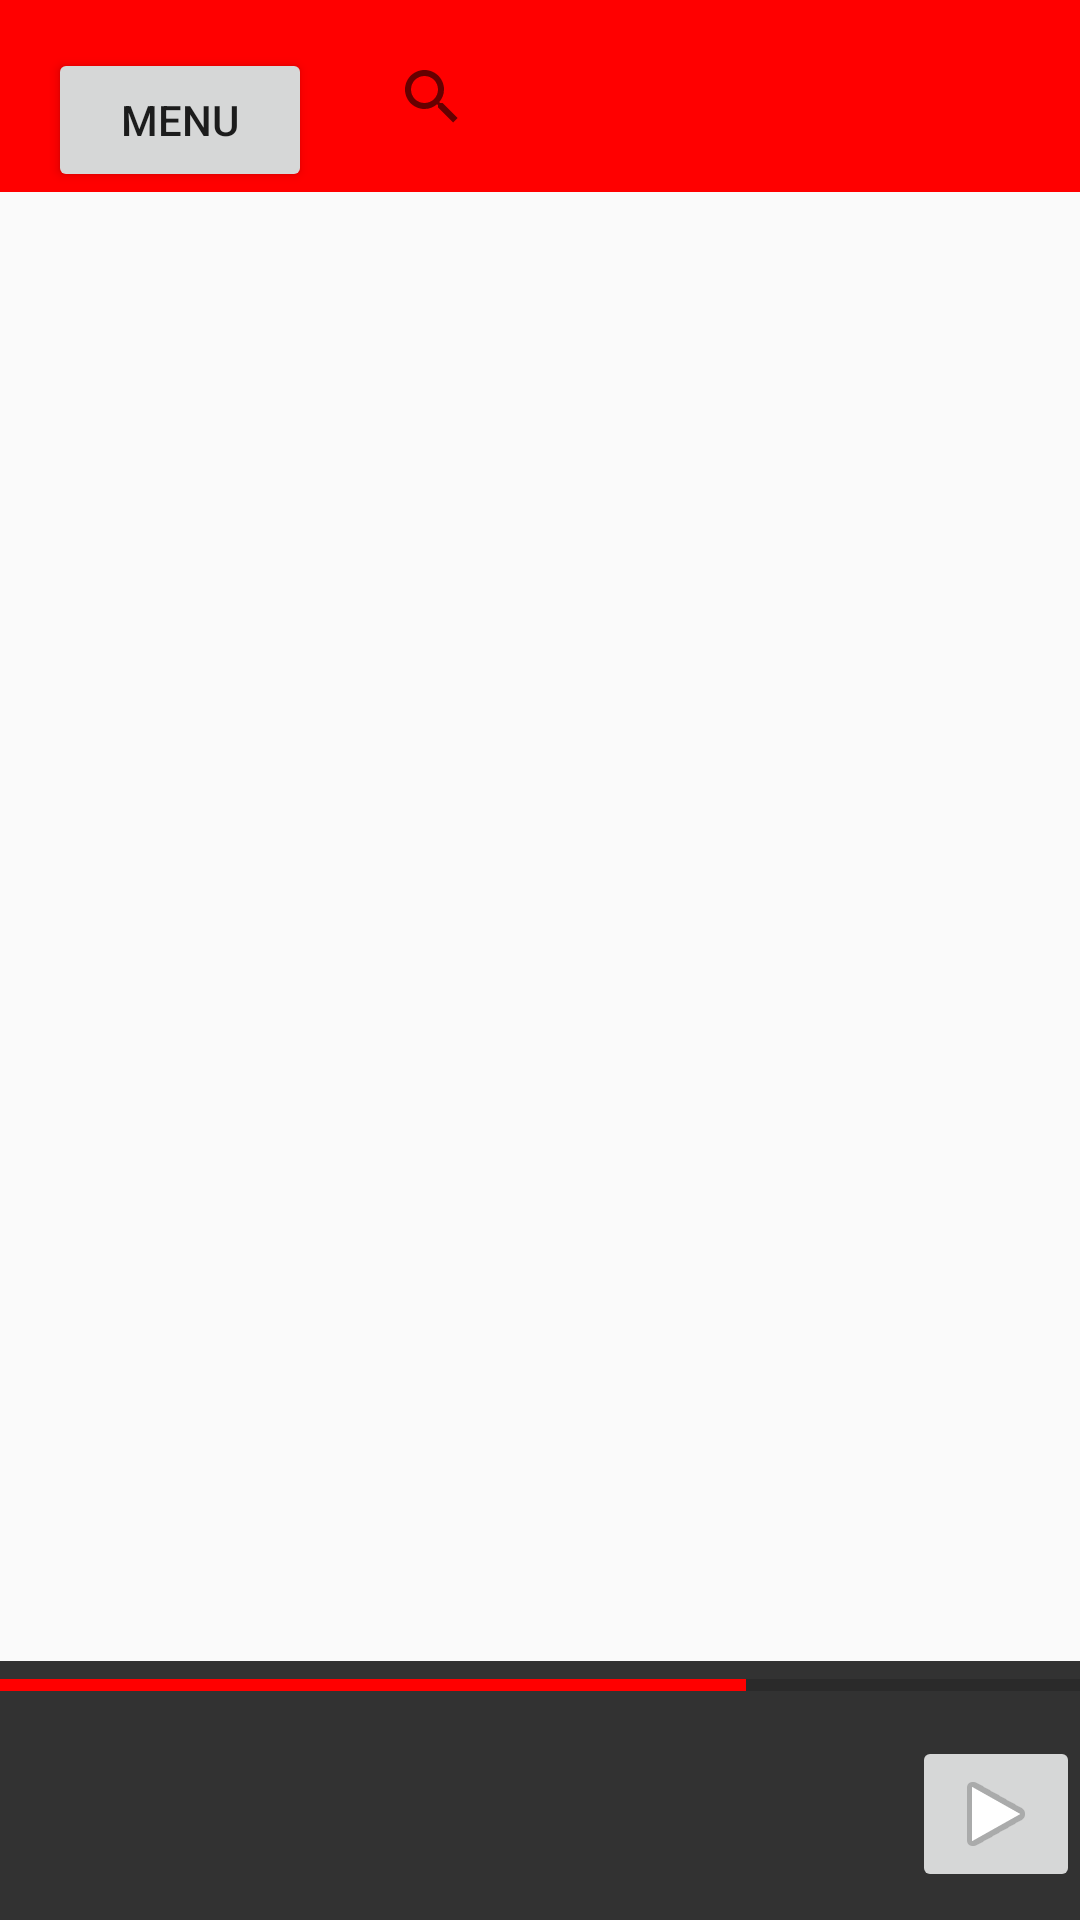

Point at icon controls on the screen. Image size 1080×1920, points as (x=x, y=y).
play: (x=996, y=1814)
